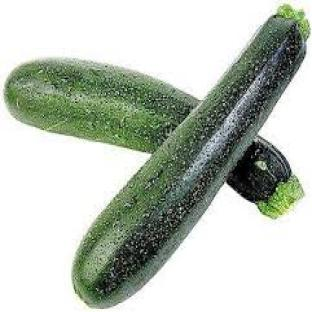Zucchini: (73, 15, 305, 307), (6, 60, 199, 152)
